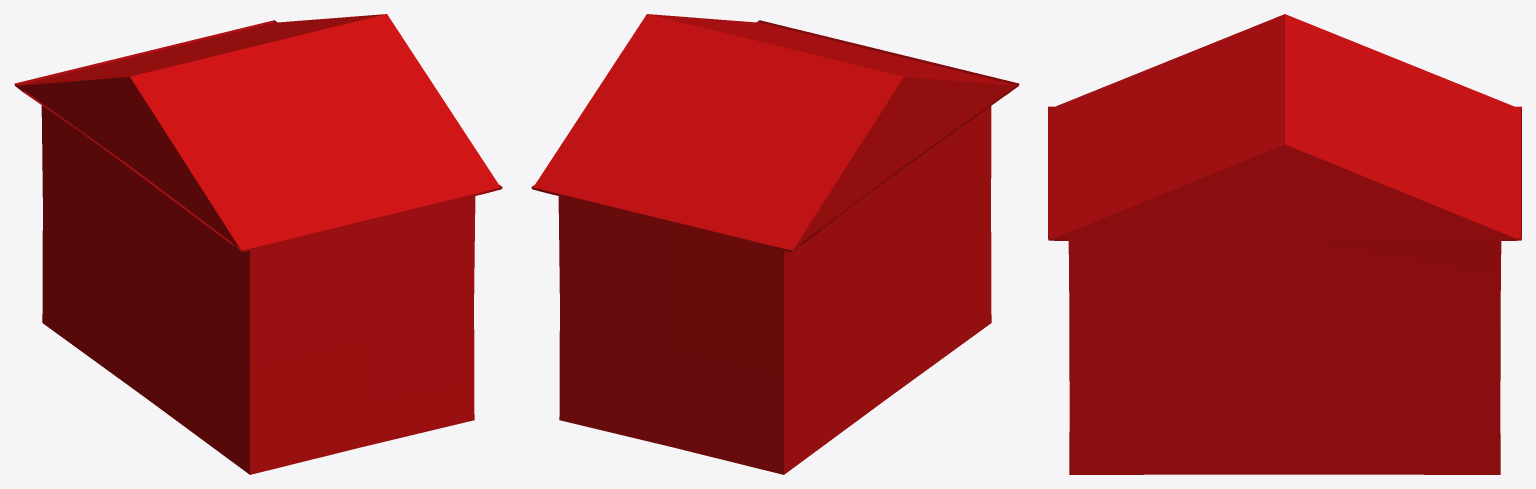
File: Hotel_new.fbx
The picture shows the model from 3 angles, left to right: view 1: azimuth 30°, elevation 25°; view 2: azimuth 150°, elevation 25°; view 3: azimuth 270°, elevation 25°; orthographic projection. The views are drawn at different scales.
Visible parts, largest first — view 1: hotel; view 2: hotel; view 3: hotel.
Boxes of the visible parts, x1,y1,x2,y2 form: hotel: [14, 14, 502, 474]; hotel: [531, 14, 1019, 474]; hotel: [1048, 14, 1521, 474].
Size of the model in its own units: 22.9 by 27.46 by 34.79.
